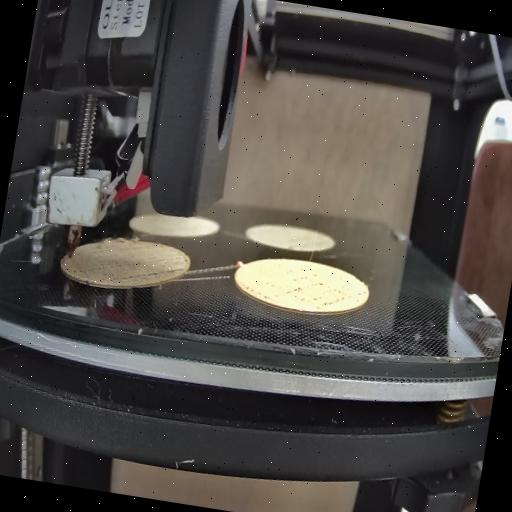under_extrusion: (70, 250, 186, 294), (285, 266, 367, 312), (241, 276, 284, 312)
